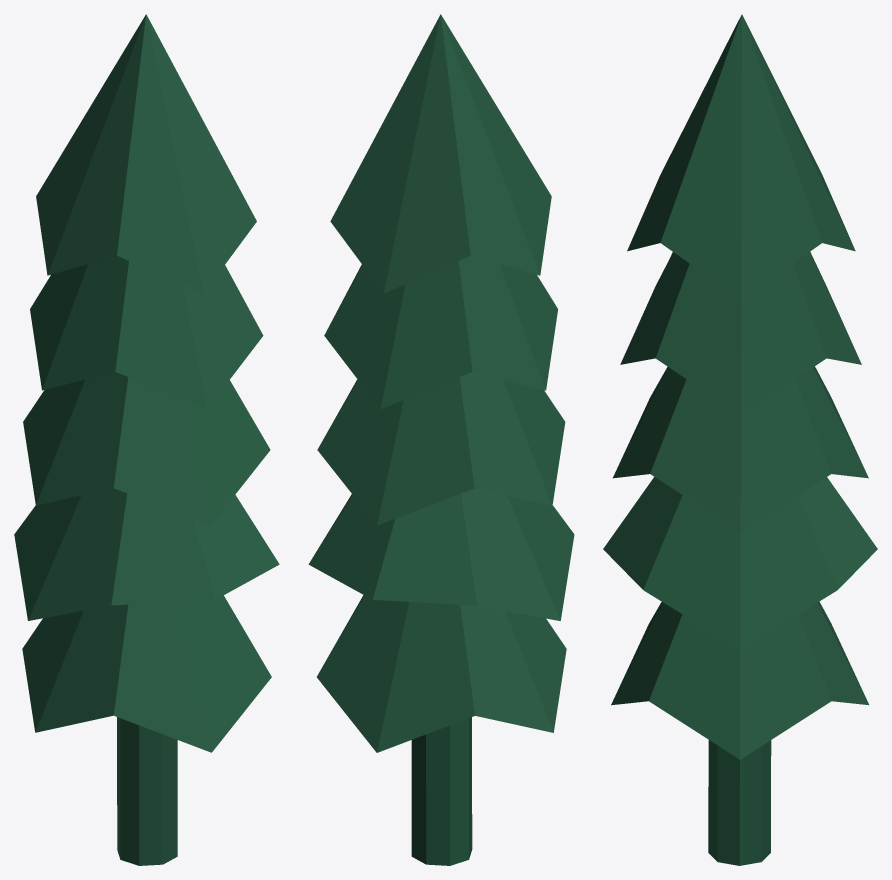
File: TreePackage.fbx_Tree_018.fbx
3 renders of one model, left to right at view 1: azimuth 30°, elevation 25°; view 2: azimuth 150°, elevation 25°; view 3: azimuth 270°, elevation 25°, orthographic.
Visible parts, largest first — view 1: Circle.003; view 2: Circle.003; view 3: Circle.003.
Part boxes in pixels (x1,y1,x2,y2): Circle.003: (14, 14, 279, 865); Circle.003: (308, 14, 574, 865); Circle.003: (603, 14, 877, 865).
Size of the model in its own units: 143 by 481 by 143.
